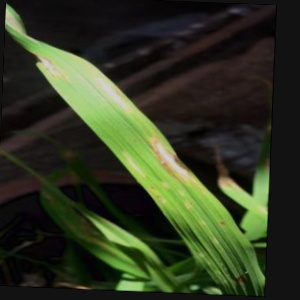Brown_Spot: (147, 126, 214, 184), (26, 47, 80, 87)
